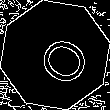O_NW: (22, 23, 88, 87)
